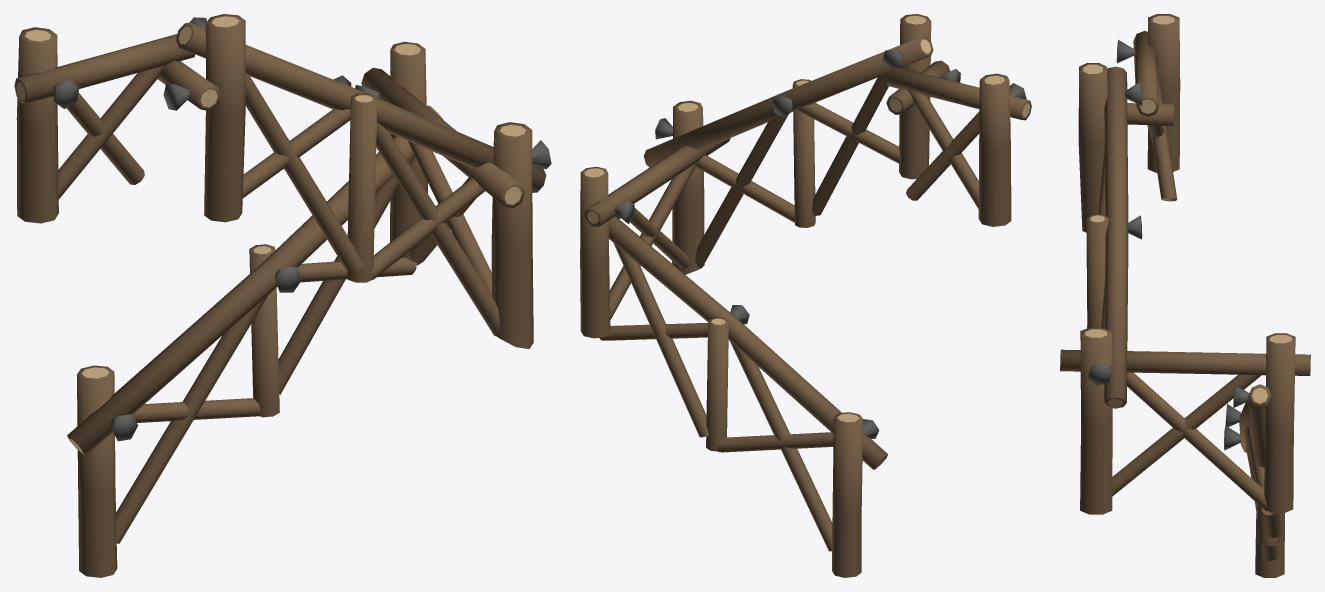
File: rpgpp_ag_stairs_interior_02e_4m_handrail_01.fbx
3 views of the same model, side by side, from view 1: azimuth 30°, elevation 25°; view 2: azimuth 150°, elevation 25°; view 3: azimuth 270°, elevation 25° (orthographic). The views are drawn at different scales.
Visible parts, largest first — view 1: rpgpp_ag_stairs_interior_02e_4m_handrail_01; view 2: rpgpp_ag_stairs_interior_02e_4m_handrail_01; view 3: rpgpp_ag_stairs_interior_02e_4m_handrail_01.
Boxes of the visible parts, bbox=[...] form: rpgpp_ag_stairs_interior_02e_4m_handrail_01: bbox=[14, 14, 551, 577]; rpgpp_ag_stairs_interior_02e_4m_handrail_01: bbox=[580, 14, 1031, 577]; rpgpp_ag_stairs_interior_02e_4m_handrail_01: bbox=[1060, 14, 1310, 577].
Size of the model in its own units: 4.47 by 5.26 by 2.34.
